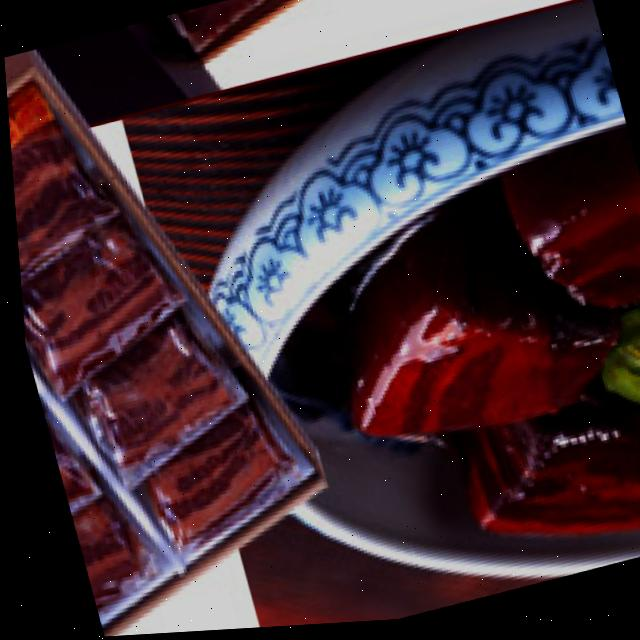猪肉菜式: (277, 128, 640, 628)
